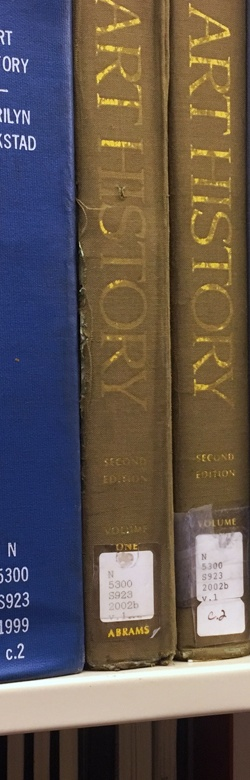call_number: (0, 539, 56, 675), (97, 548, 158, 631), (193, 531, 247, 601)
